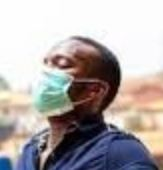with_facemask: (24, 67, 86, 119)
